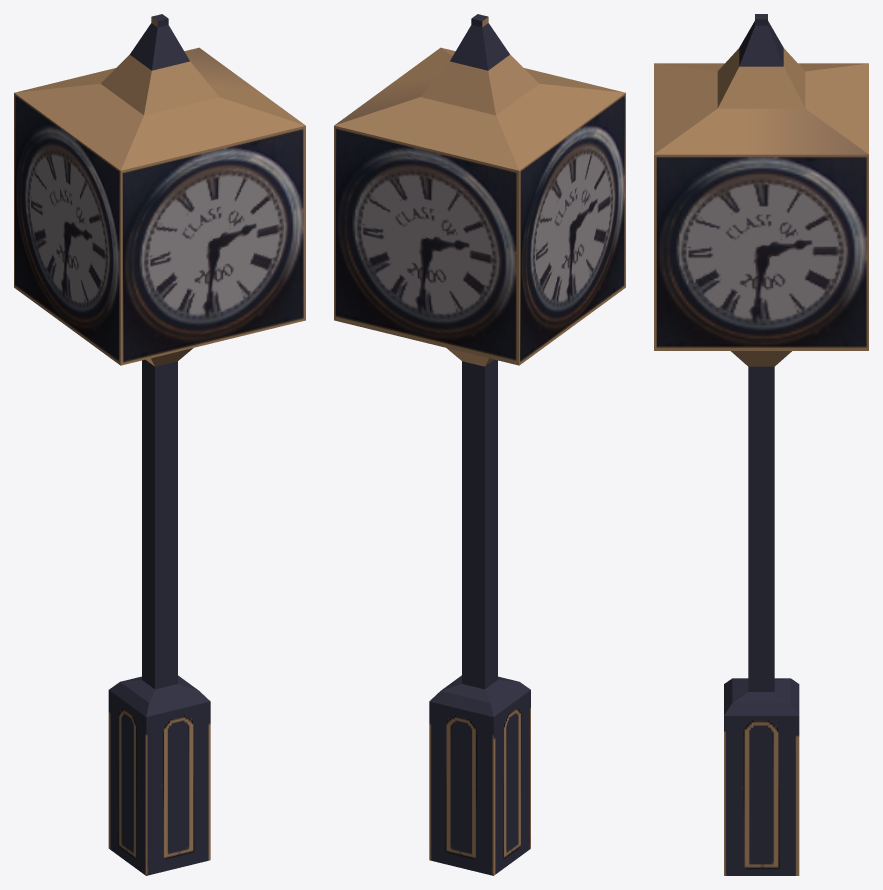
File: sscClock.obj
The picture shows the model from 3 angles, left to right: view 1: azimuth 30°, elevation 25°; view 2: azimuth 150°, elevation 25°; view 3: azimuth 270°, elevation 25°; orthographic projection.
Visible parts, largest first — view 1: Cube; view 2: Cube; view 3: Cube.
Boxes of the visible parts, bbox=[...] form: Cube: bbox=[14, 14, 305, 875]; Cube: bbox=[334, 14, 625, 875]; Cube: bbox=[654, 14, 868, 875].
Size of the model in its own units: 4.86 by 20.97 by 4.84.
3 materials, 2 textured.
